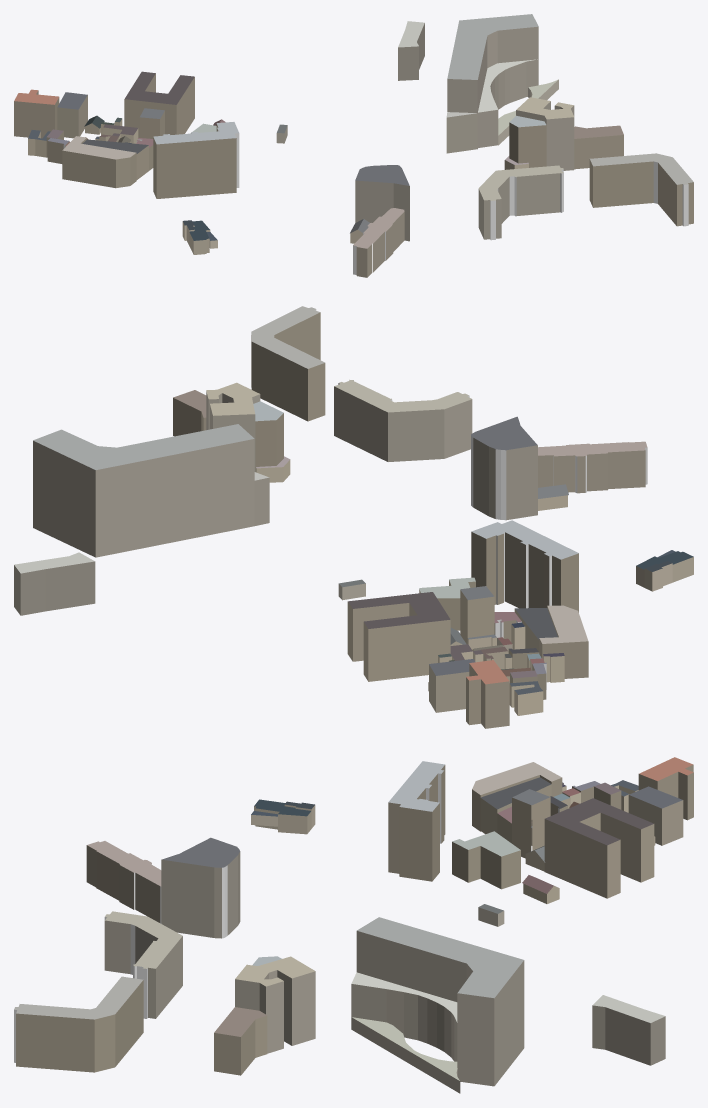
3 renders of one model, top to bottom at view 1: azimuth 30°, elevation 25°; view 2: azimuth 150°, elevation 25°; view 3: azimuth 270°, elevation 25°, orthographic. The views are drawn at different scales.
Parts seen in each view (by area): view 1: tuile; view 2: tuile; view 3: tuile.
Part boxes in pixels (x1,y1,x2,y2): tuile: (14,14,693,277); tuile: (14,306,693,728); tuile: (14,757,693,1093).
Bounding box in the file's own units: 286 × 44.15 × 282.
